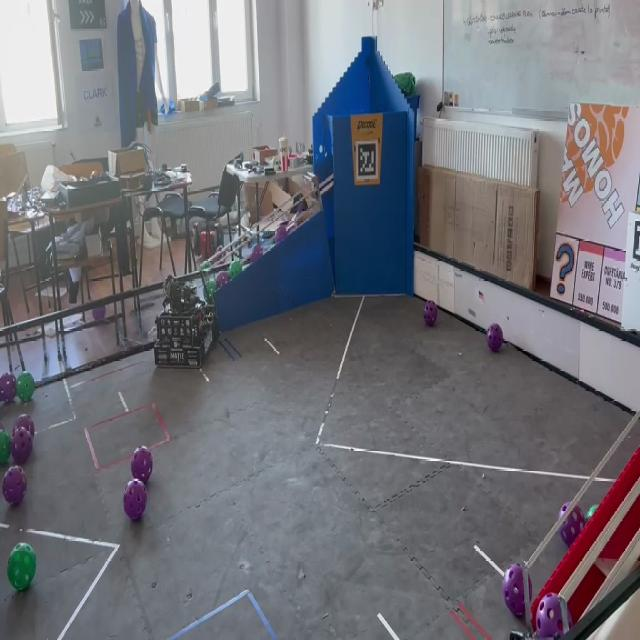artifact_green: (7, 544, 36, 591), (17, 372, 35, 402), (0, 373, 16, 404), (0, 431, 11, 464), (229, 259, 242, 280), (205, 279, 216, 303), (586, 505, 598, 523), (200, 259, 211, 273)
artifact_purple: (536, 595, 572, 637), (503, 564, 525, 617), (559, 503, 584, 546), (124, 479, 146, 521), (3, 466, 26, 506), (131, 447, 153, 484), (11, 427, 32, 464), (13, 415, 34, 438), (0, 373, 16, 403), (487, 324, 503, 353), (424, 302, 438, 326), (275, 224, 288, 244), (250, 245, 263, 263), (216, 271, 229, 289), (92, 306, 106, 321), (0, 424, 4, 431)
